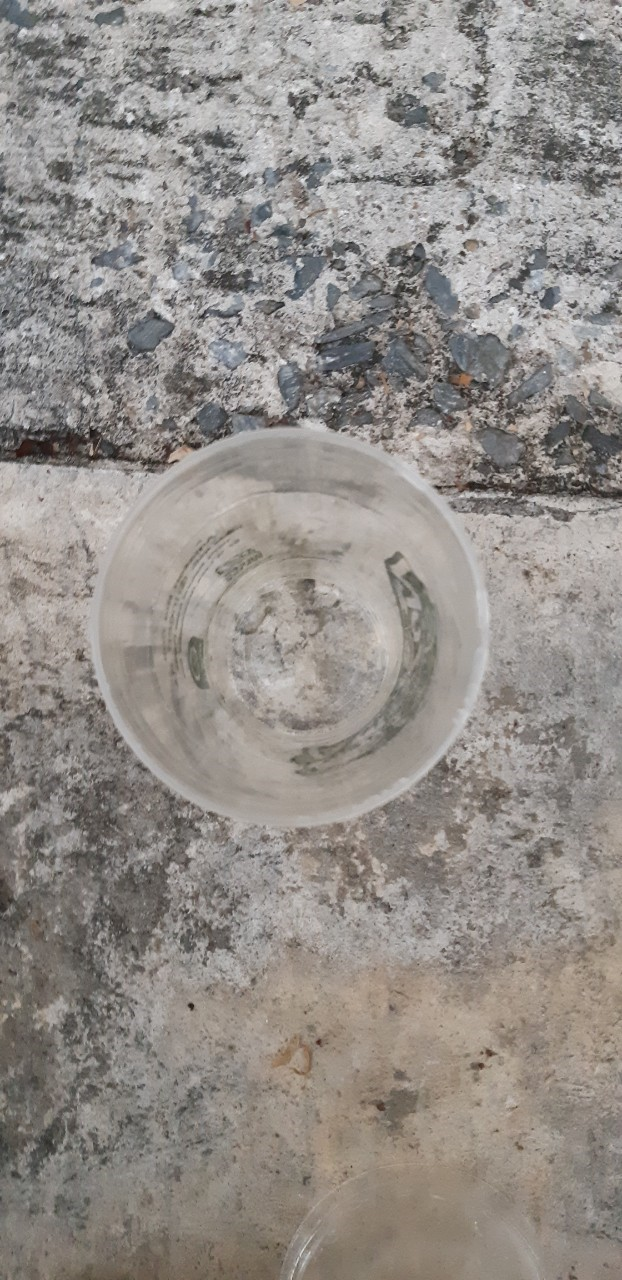PlasticCup: (86, 433, 490, 819)
